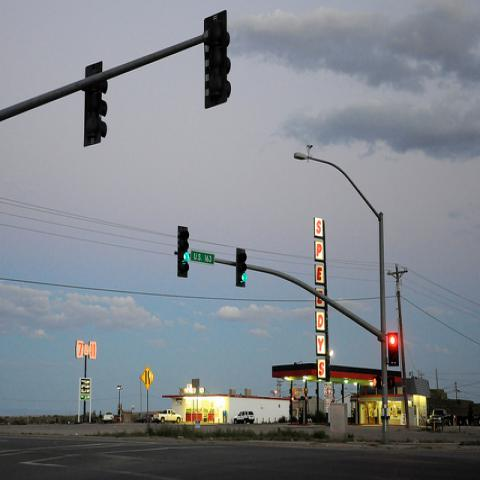car: (233, 411, 255, 424), (103, 411, 114, 420)
truck: (426, 408, 454, 428), (152, 409, 182, 425), (234, 411, 254, 423), (103, 411, 114, 424)
